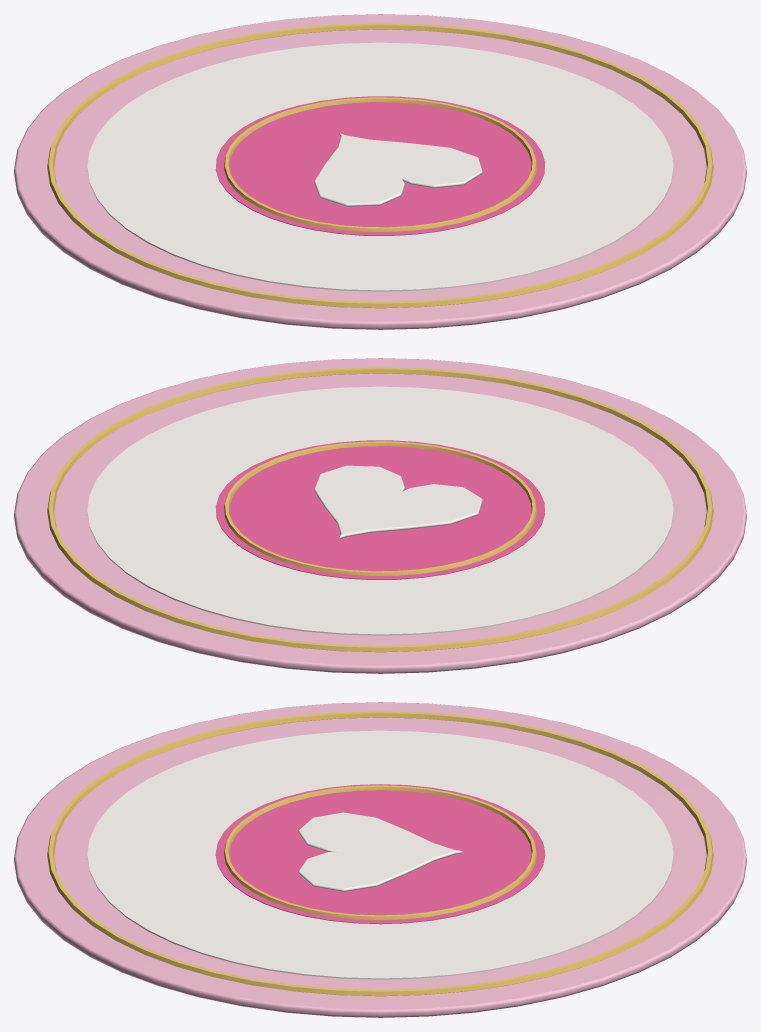
File: rug_round.glb
The picture shows the model from 3 angles, top to bottom: view 1: azimuth 30°, elevation 25°; view 2: azimuth 150°, elevation 25°; view 3: azimuth 270°, elevation 25°; orthographic projection.
Parts seen in each view (by area): view 1: rug_round; view 2: rug_round; view 3: rug_round.
Part boxes in pixels (box(x1,y1,x2,y2)): rug_round: box(14, 14, 746, 329); rug_round: box(14, 358, 746, 673); rug_round: box(14, 702, 746, 1017).
Bounding box in the file's own units: 2 × 0.041 × 2.
